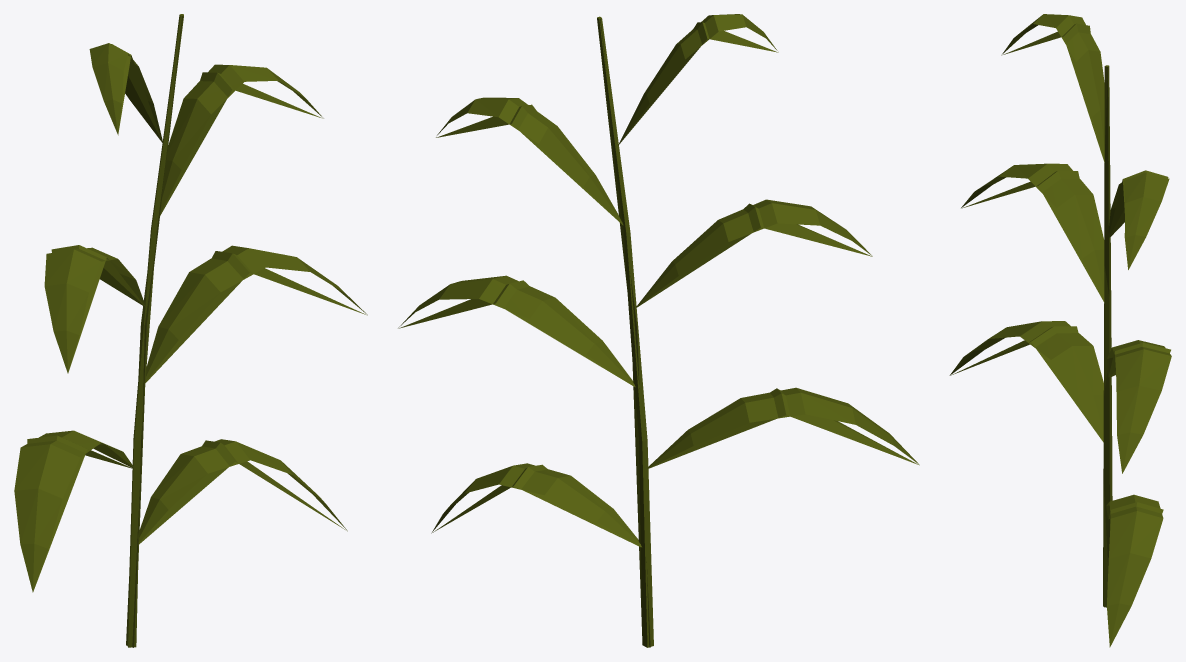
File: crop_02.dae
The picture shows the model from 3 angles, left to right: view 1: azimuth 30°, elevation 25°; view 2: azimuth 150°, elevation 25°; view 3: azimuth 270°, elevation 25°; orthographic projection. The views are drawn at different scales.
Visible parts, largest first — view 1: plant64, plant8; view 2: plant64, plant8; view 3: plant64, plant8.
Part boxes in pixels (box(x1,y1,x2,y2)): plant64: box(14, 14, 367, 647); plant8: box(27, 14, 365, 647); plant64: box(398, 14, 919, 647); plant8: box(399, 17, 919, 647); plant64: box(949, 14, 1171, 647); plant8: box(950, 23, 1170, 605).
Bounding box in the file's own units: 1.28 × 0.6284 × 1.78.
